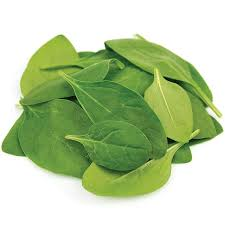spinach: (21, 40, 185, 182)
